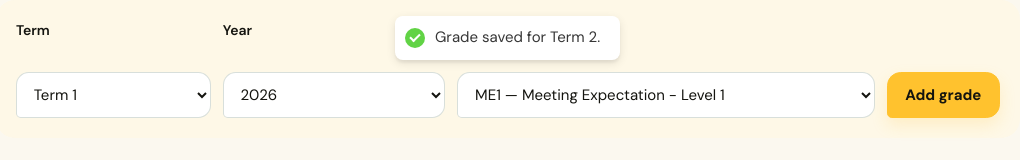
Test: flagged My Progress dashboard › uses the standard permission toast when grade saving is forbidden
This screenshot has width=1020, height=160.
Click the button "Add grade".
click(943, 95)  # box x1=887 y1=72 x2=1000 y2=118
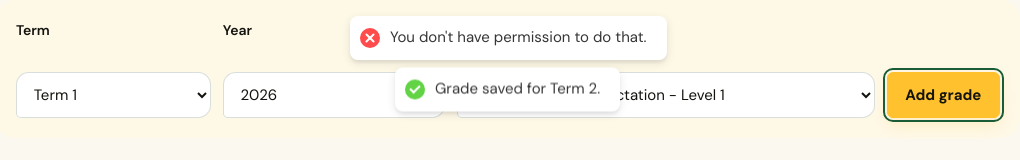
Now the text "You don't have permission to do that." is shown, box x1=390 y1=28 x2=646 y2=48
